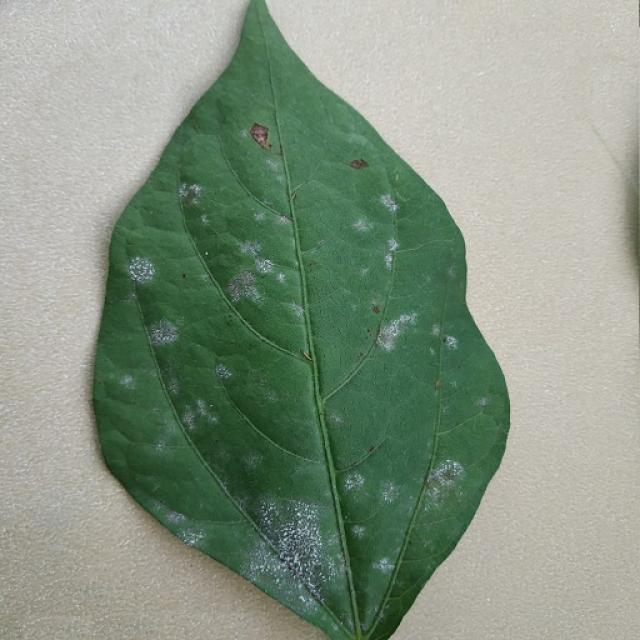Blackgram: (92, 0, 509, 639)
Powdery_Mildew: (251, 499, 336, 606), (378, 312, 416, 351), (425, 460, 462, 498), (183, 395, 221, 431), (126, 255, 160, 291), (226, 269, 261, 303), (257, 500, 290, 536), (248, 549, 277, 583), (148, 319, 179, 346), (180, 526, 207, 547), (233, 495, 254, 519), (180, 182, 202, 204), (181, 407, 200, 431), (343, 472, 364, 493), (293, 506, 313, 528), (378, 329, 397, 351), (164, 510, 188, 527), (164, 374, 181, 397), (243, 452, 263, 471), (381, 482, 398, 503), (379, 193, 397, 212), (446, 460, 464, 479), (375, 557, 395, 574), (215, 363, 233, 381), (255, 257, 274, 274), (327, 411, 344, 429), (243, 240, 262, 256), (265, 156, 282, 173), (352, 218, 371, 233), (372, 602, 386, 620), (442, 335, 458, 350), (119, 374, 135, 388), (384, 249, 395, 269), (351, 524, 366, 538), (399, 313, 414, 327), (293, 303, 306, 318), (387, 238, 398, 254), (228, 281, 241, 294), (278, 214, 291, 226), (446, 265, 457, 279), (200, 213, 212, 225), (126, 291, 138, 303), (156, 441, 168, 453), (254, 211, 267, 222), (181, 182, 191, 195), (432, 324, 441, 337), (276, 272, 286, 283), (476, 397, 488, 406), (360, 266, 369, 277), (372, 304, 380, 314), (241, 129, 248, 138), (430, 347, 436, 356), (205, 251, 209, 256)
